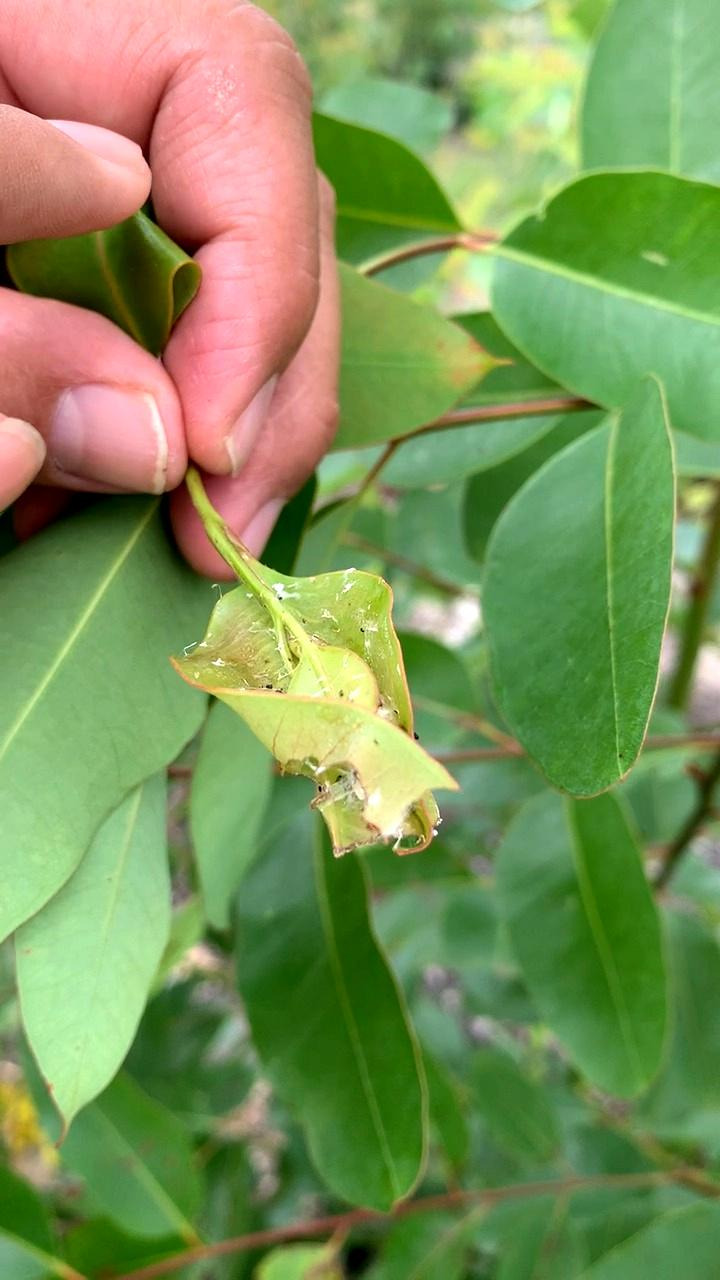Leaf Roller - Leaf: (191, 558, 457, 859)
